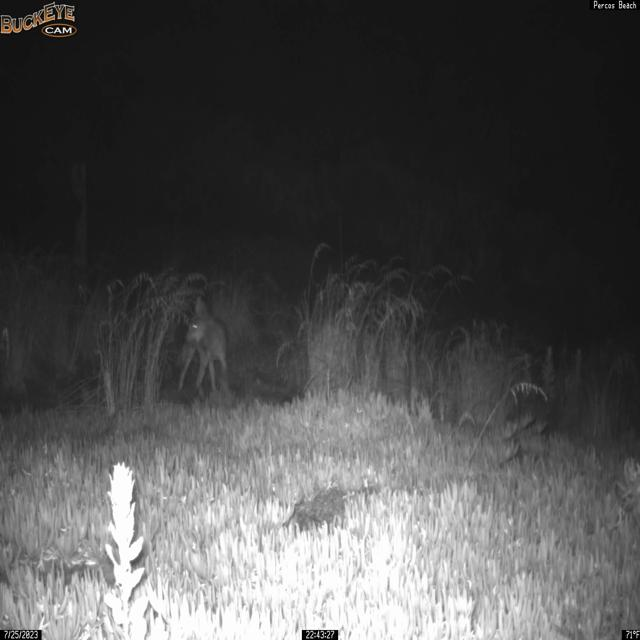coyote: (175, 295, 230, 399)
